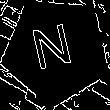N_S: (32, 22, 81, 80)
